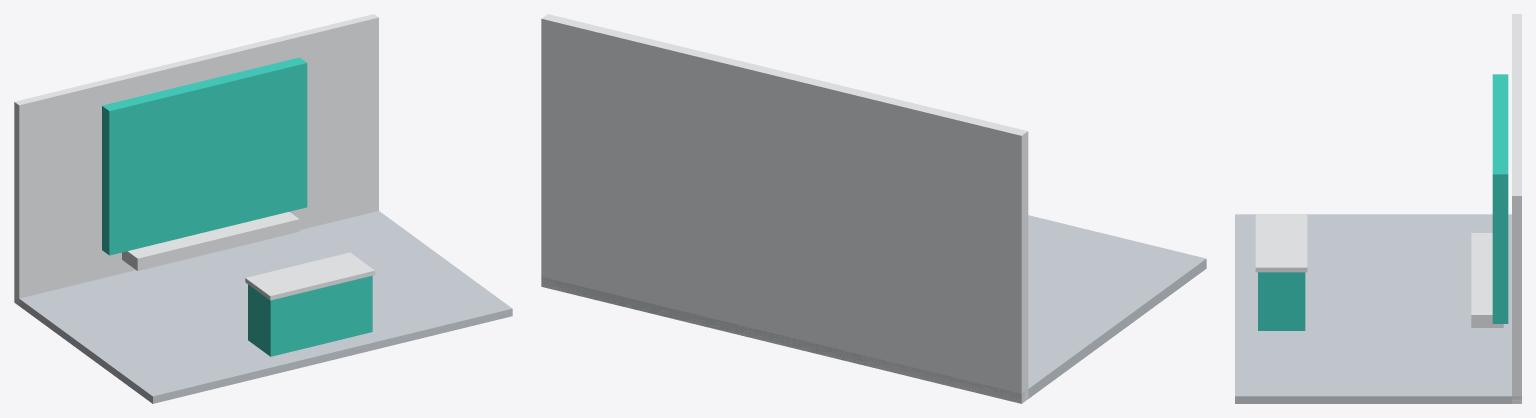
The picture shows the model from 3 angles, left to right: view 1: azimuth 30°, elevation 25°; view 2: azimuth 150°, elevation 25°; view 3: azimuth 270°, elevation 25°; orthographic projection. The views are drawn at different scales.
Visible parts, largest first — view 1: Exhibition Booth Concept; view 2: Exhibition Booth Concept; view 3: Exhibition Booth Concept.
Boxes of the visible parts, x1,y1,x2,y2 form: Exhibition Booth Concept: (14,14,512,403); Exhibition Booth Concept: (541,14,1206,403); Exhibition Booth Concept: (1235,14,1521,403).
Size of the model in its own units: 6 by 3.2 by 4.
